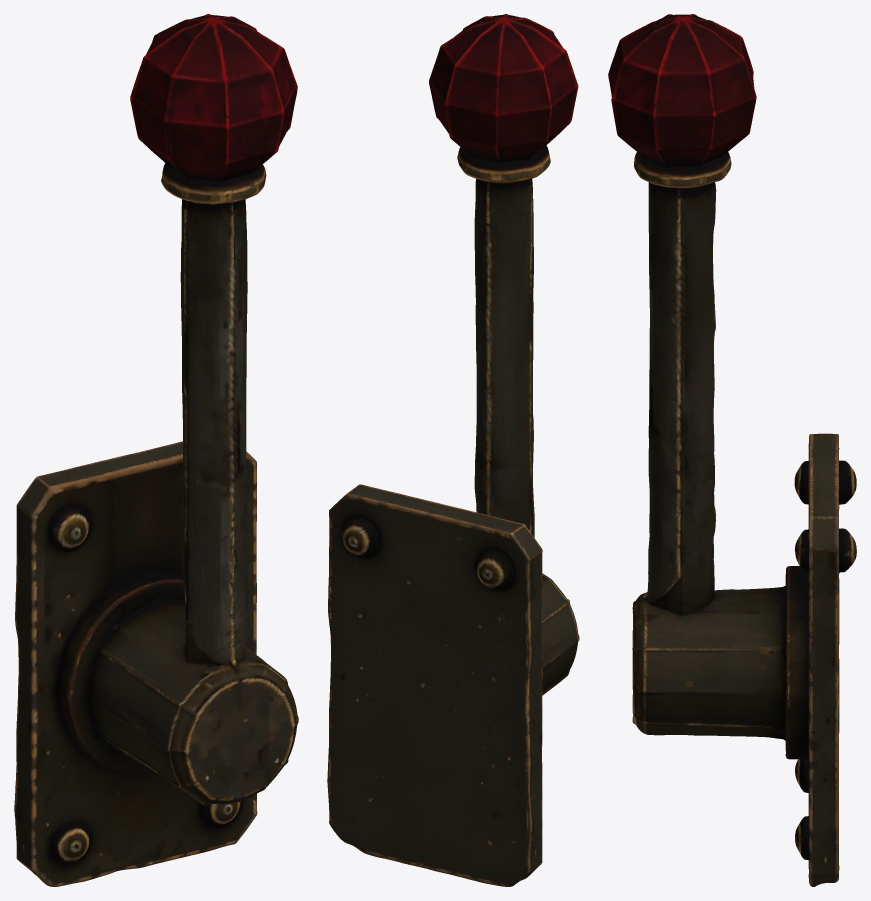
File: slotlever.glb
3 renders of one model, left to right at view 1: azimuth 30°, elevation 25°; view 2: azimuth 150°, elevation 25°; view 3: azimuth 270°, elevation 25°, orthographic. The views are drawn at different scales.
Parts seen in each view (by area): view 1: tripo_node_793d94ec-f295-42cc-b2b5-36b008d7c061; view 2: tripo_node_793d94ec-f295-42cc-b2b5-36b008d7c061; view 3: tripo_node_793d94ec-f295-42cc-b2b5-36b008d7c061.
Part boxes in pixels (x1=…): tripo_node_793d94ec-f295-42cc-b2b5-36b008d7c061: x1=14, y1=14, x2=298, y2=886; tripo_node_793d94ec-f295-42cc-b2b5-36b008d7c061: x1=327, y1=14, x2=579, y2=886; tripo_node_793d94ec-f295-42cc-b2b5-36b008d7c061: x1=608, y1=14, x2=856, y2=886.
Bounding box in the file's own units: 0.2679 × 1 × 0.2727.
1 material, 1 textured.
